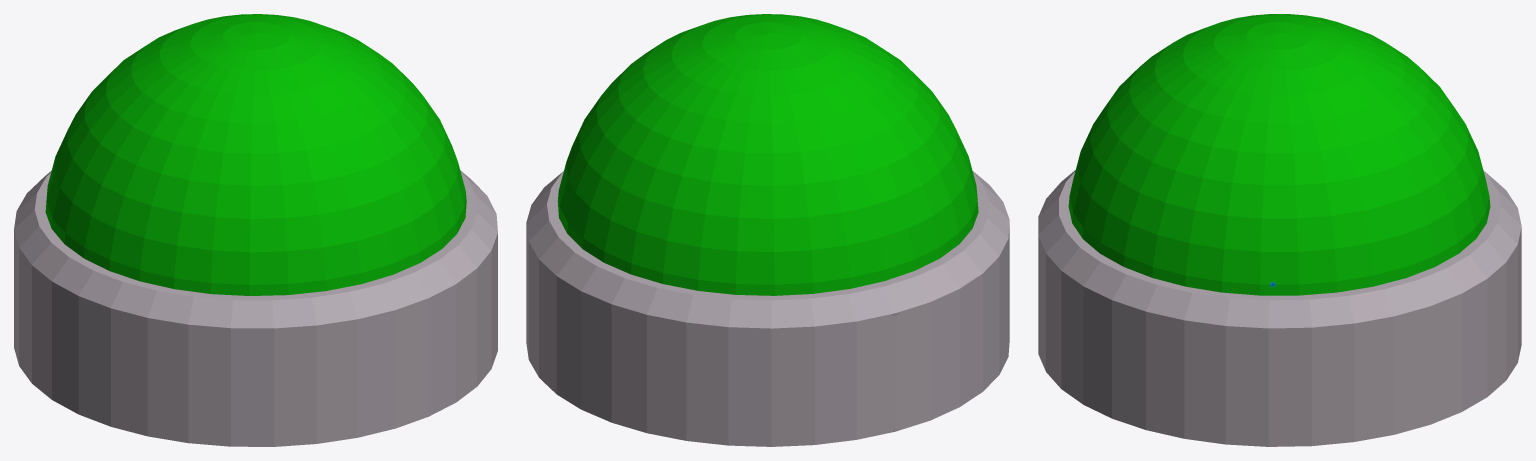
Rendered from Luz.fbx.
3 views of the same model, side by side, from view 1: azimuth 30°, elevation 25°; view 2: azimuth 150°, elevation 25°; view 3: azimuth 270°, elevation 25° (orthographic).
Parts seen in each view (by area): view 1: Sphere, Cylinder; view 2: Sphere, Cylinder; view 3: Sphere, Cylinder.
Boxes of the visible parts, bbox=[...] form: Sphere: bbox=[45, 14, 466, 295]; Cylinder: bbox=[14, 170, 497, 446]; Sphere: bbox=[557, 14, 978, 295]; Cylinder: bbox=[526, 171, 1009, 446]; Sphere: bbox=[1068, 14, 1490, 295]; Cylinder: bbox=[1038, 170, 1521, 446].
Bounding box in the file's own units: 226 × 160 × 226.
